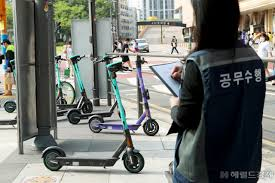kick_body: (64, 157, 114, 166), (105, 122, 138, 129), (81, 112, 111, 117), (56, 104, 76, 108)
kick_handler: (107, 63, 132, 74), (93, 55, 118, 62), (69, 55, 81, 62)
kick_neck: (112, 78, 132, 140), (137, 70, 149, 111), (57, 64, 62, 96)
kick_wheel: (42, 146, 63, 170), (122, 151, 145, 172), (88, 115, 103, 132), (145, 119, 160, 136), (67, 109, 80, 124), (80, 101, 93, 113), (5, 101, 16, 113)
